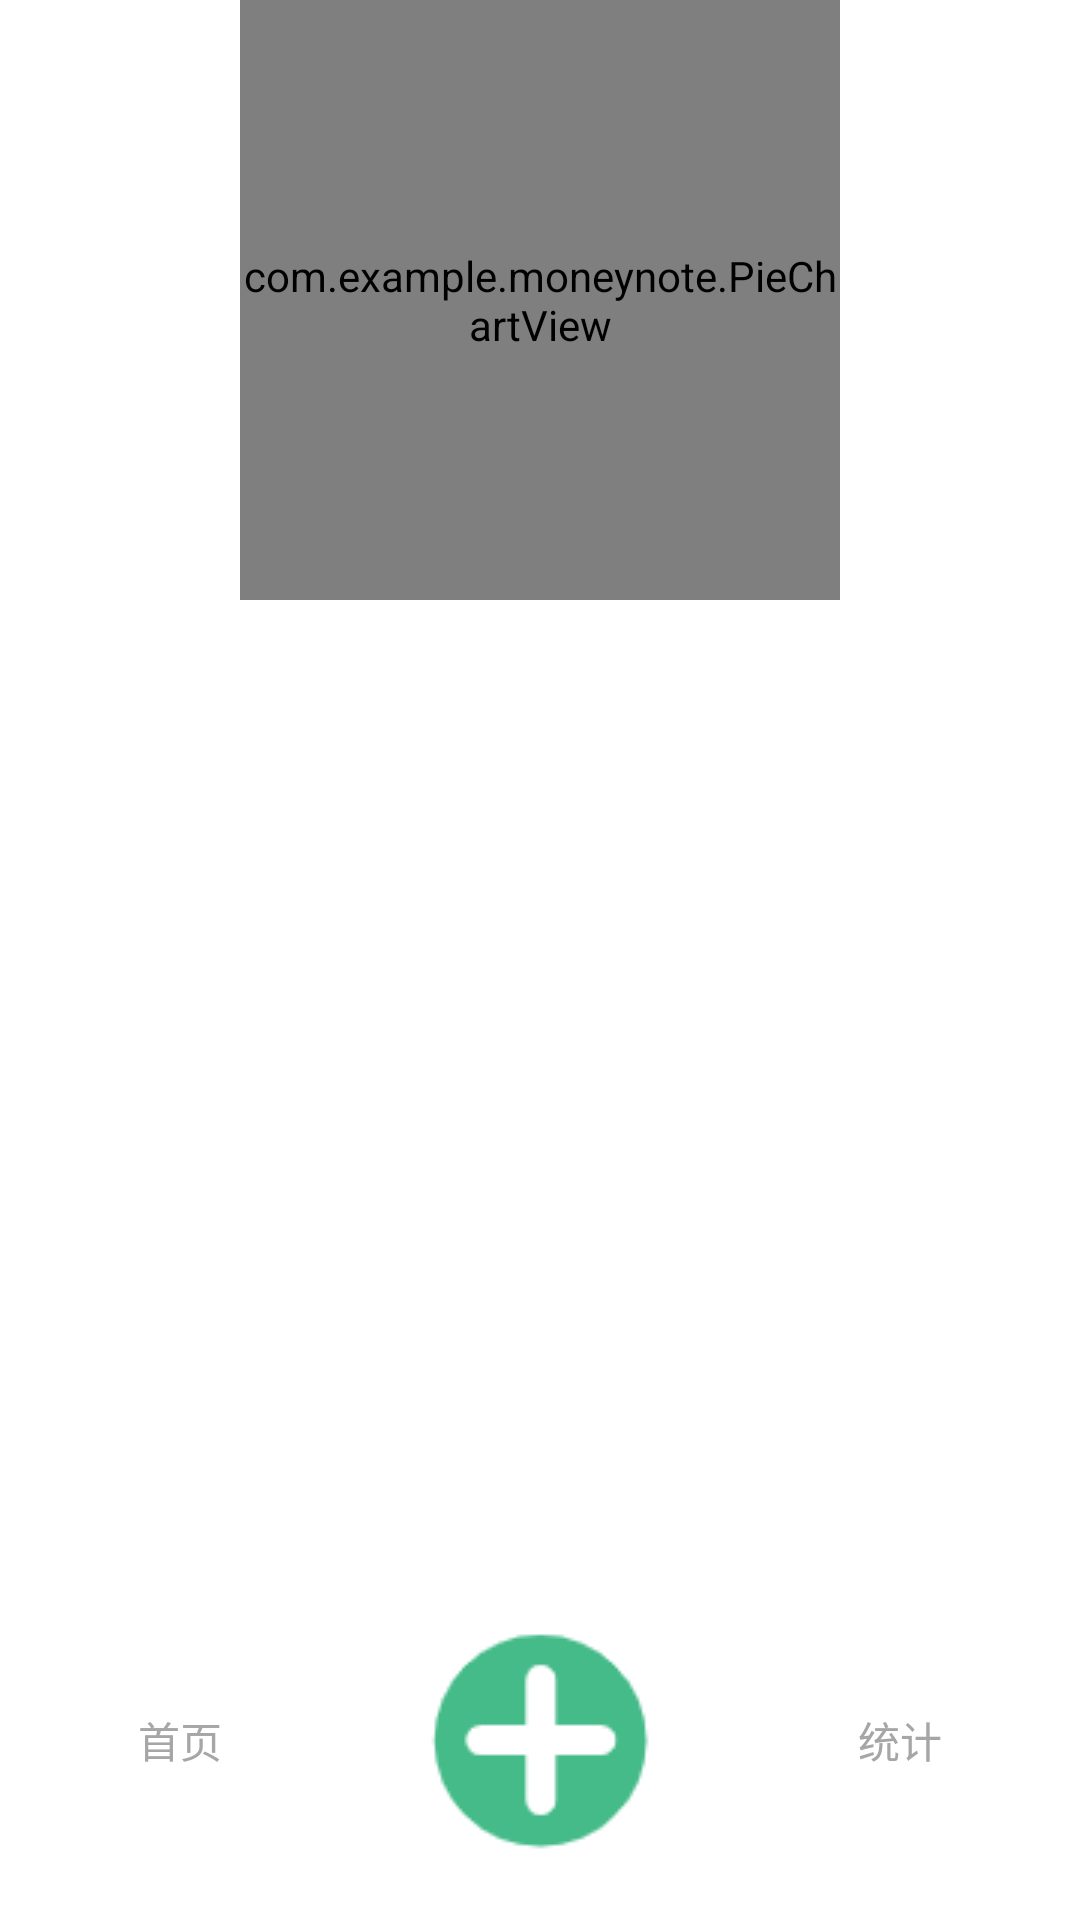

Icon bounding boxes for this 1080 x 1920 phone screenshot, format (x1, y1, x2, y2):
add type: (432, 1634, 649, 1849)
